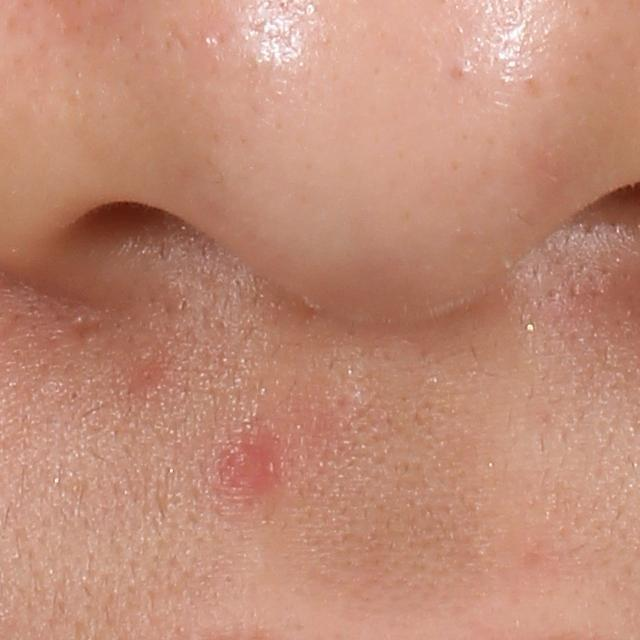papule: (222, 438, 275, 492)
